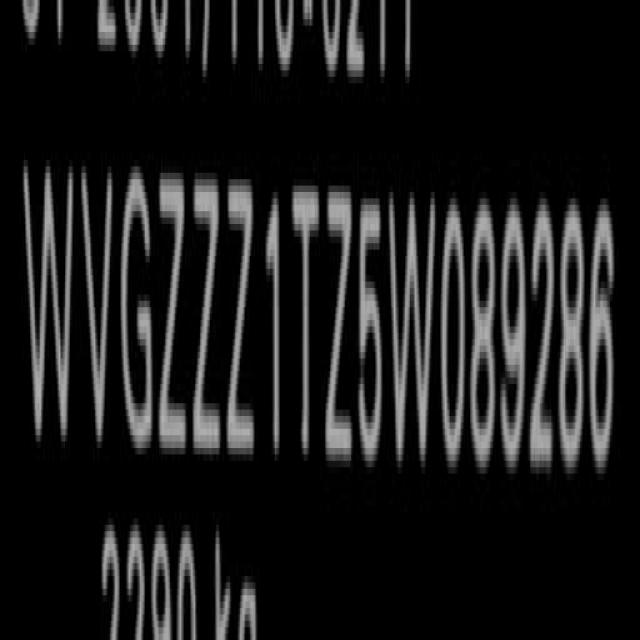0: (439, 198, 467, 472)
1: (264, 190, 282, 462)
2: (159, 166, 189, 465), (530, 205, 556, 476)
5: (358, 184, 387, 471)
6: (591, 195, 621, 473)
8: (558, 196, 588, 472), (471, 195, 498, 474)
9: (501, 203, 529, 474)
G: (120, 154, 154, 453)
T: (291, 176, 319, 468)
V: (81, 154, 112, 446)
W: (25, 151, 73, 459), (388, 186, 437, 476)
Z: (193, 167, 225, 470), (324, 176, 354, 474), (226, 172, 256, 470)
